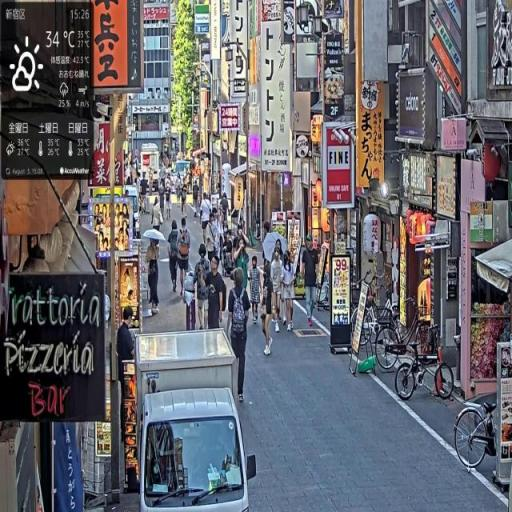person: (227, 267, 253, 404), (300, 237, 320, 330), (116, 307, 142, 372), (261, 259, 277, 359), (205, 259, 227, 331), (281, 251, 298, 334), (146, 235, 163, 317), (197, 245, 212, 332), (178, 217, 193, 296), (271, 246, 285, 327), (167, 218, 182, 293), (249, 255, 264, 325), (234, 240, 251, 301), (199, 192, 213, 247), (152, 197, 166, 244), (206, 214, 219, 258), (220, 191, 231, 230)
